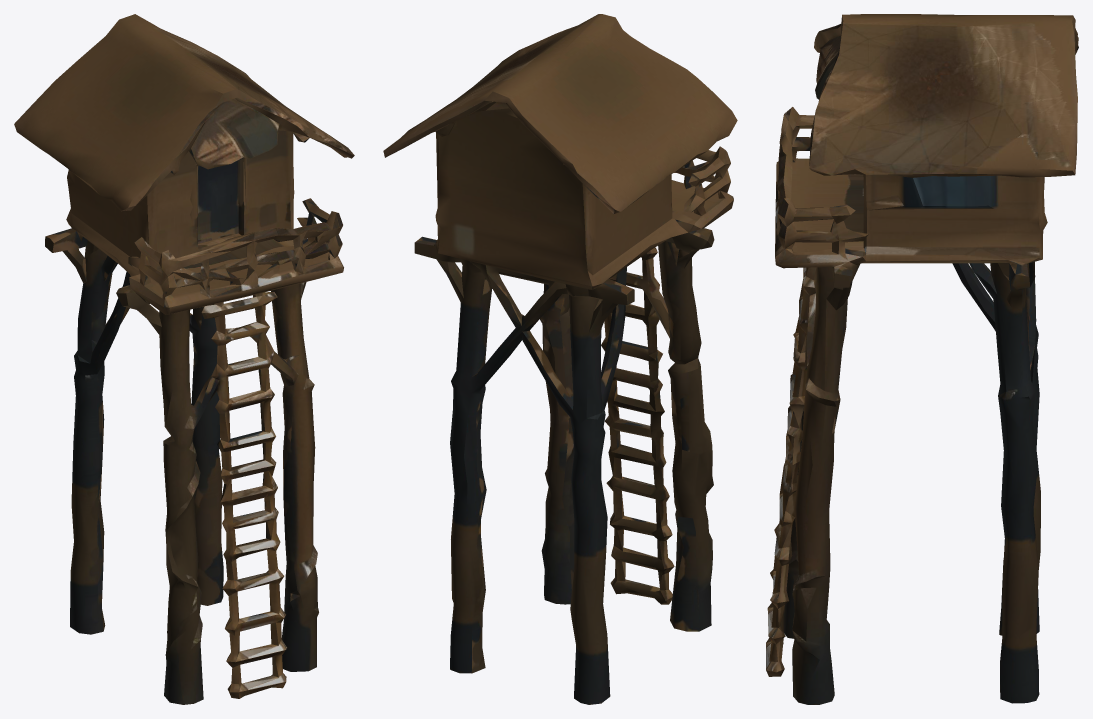
Rendered from tupies_mirador.glb.
3 renders of one model, left to right at view 1: azimuth 30°, elevation 25°; view 2: azimuth 150°, elevation 25°; view 3: azimuth 270°, elevation 25°, orthographic. The views are drawn at different scales.
Visible parts, largest first — view 1: geometry_0; view 2: geometry_0; view 3: geometry_0.
Boxes of the visible parts, x1,y1,x2,y2 form: geometry_0: (14, 14, 354, 704); geometry_0: (383, 14, 737, 704); geometry_0: (766, 14, 1078, 704).
Size of the model in its own units: 1.3 by 3.2 by 1.4.
1 material, 1 textured.
